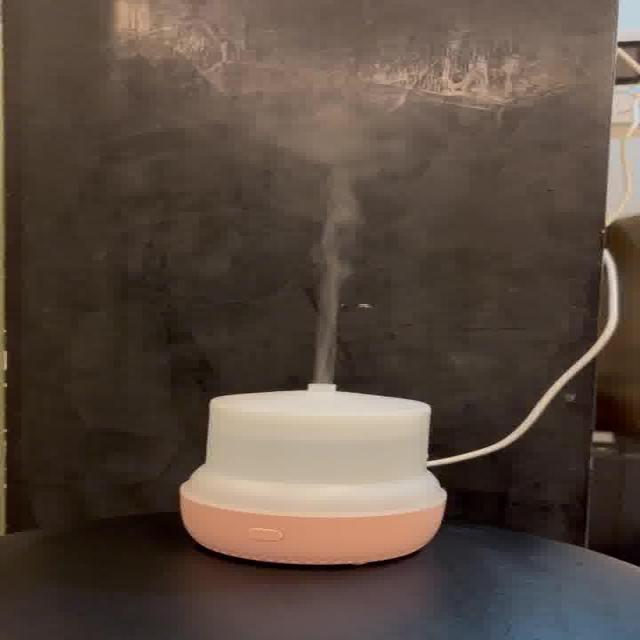fire: (243, 97, 453, 381)
